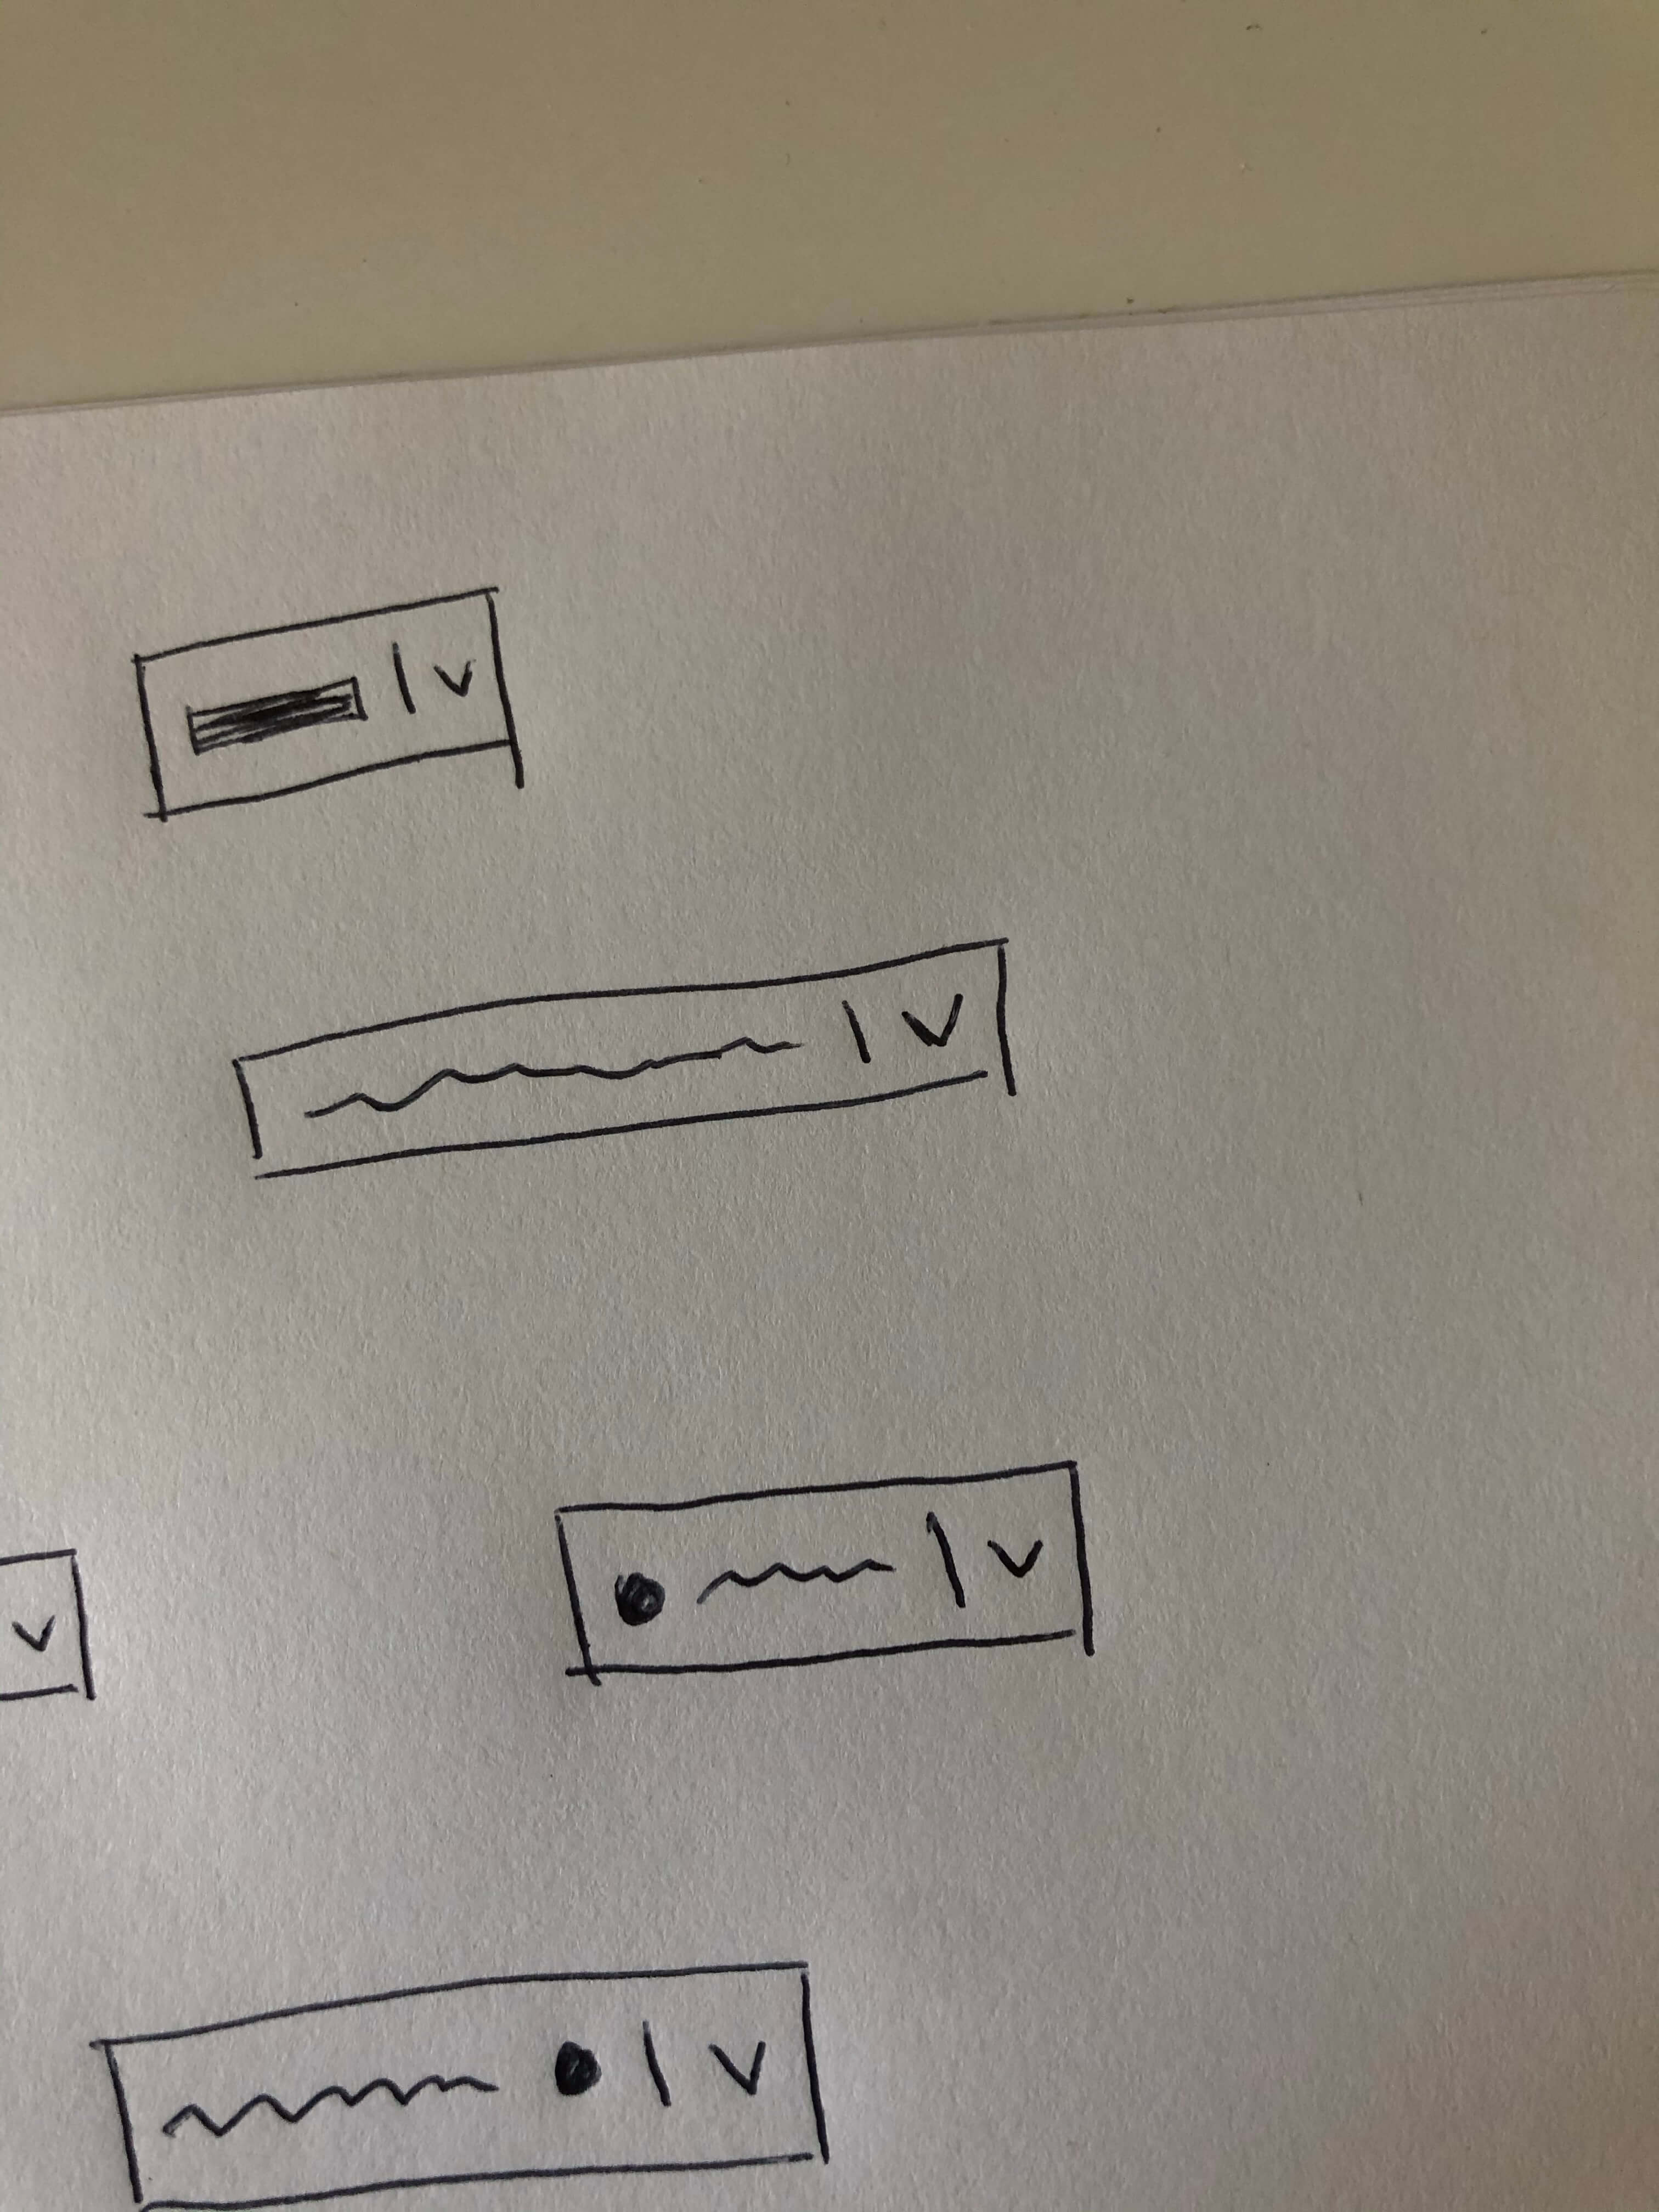split-button: (213, 927, 1032, 1190)
